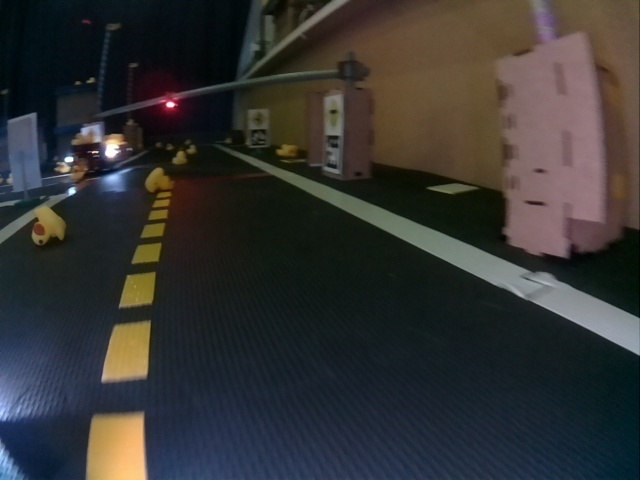Duckie: (32, 207, 65, 244), (146, 167, 172, 192), (172, 152, 187, 164), (72, 132, 84, 145), (285, 145, 297, 157), (276, 144, 286, 156), (189, 146, 197, 154)
Duckiebot: (72, 140, 131, 170)
Intersection sign: (326, 97, 344, 128), (249, 109, 266, 126)
QR code: (324, 136, 341, 172), (250, 130, 267, 146)
Traffic light: (166, 95, 178, 109)
